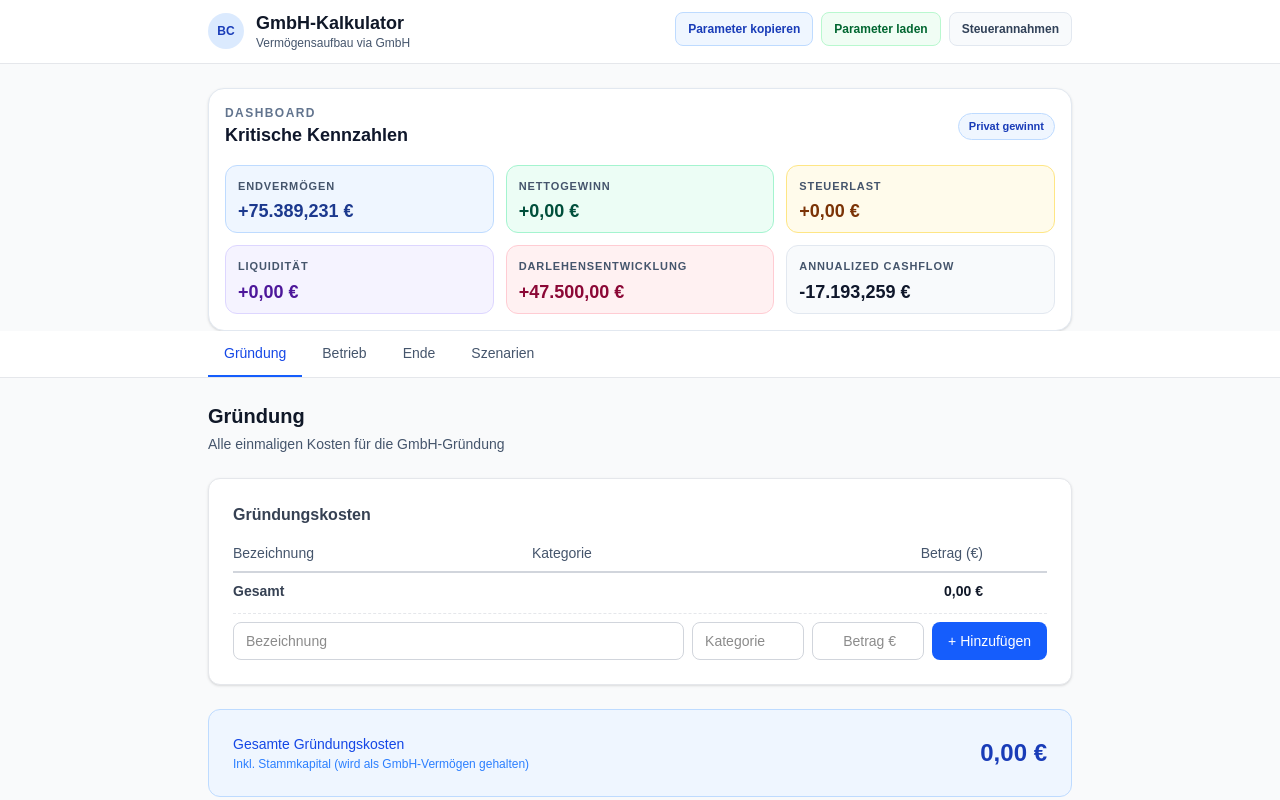
Scenario: Dashboard › provides direct access to documented tax assumptions
This screenshot has width=1280, height=800.
Click the button "Steuerannahmen": (1010, 29) top-left (949, 12), bottom-right (1072, 46)
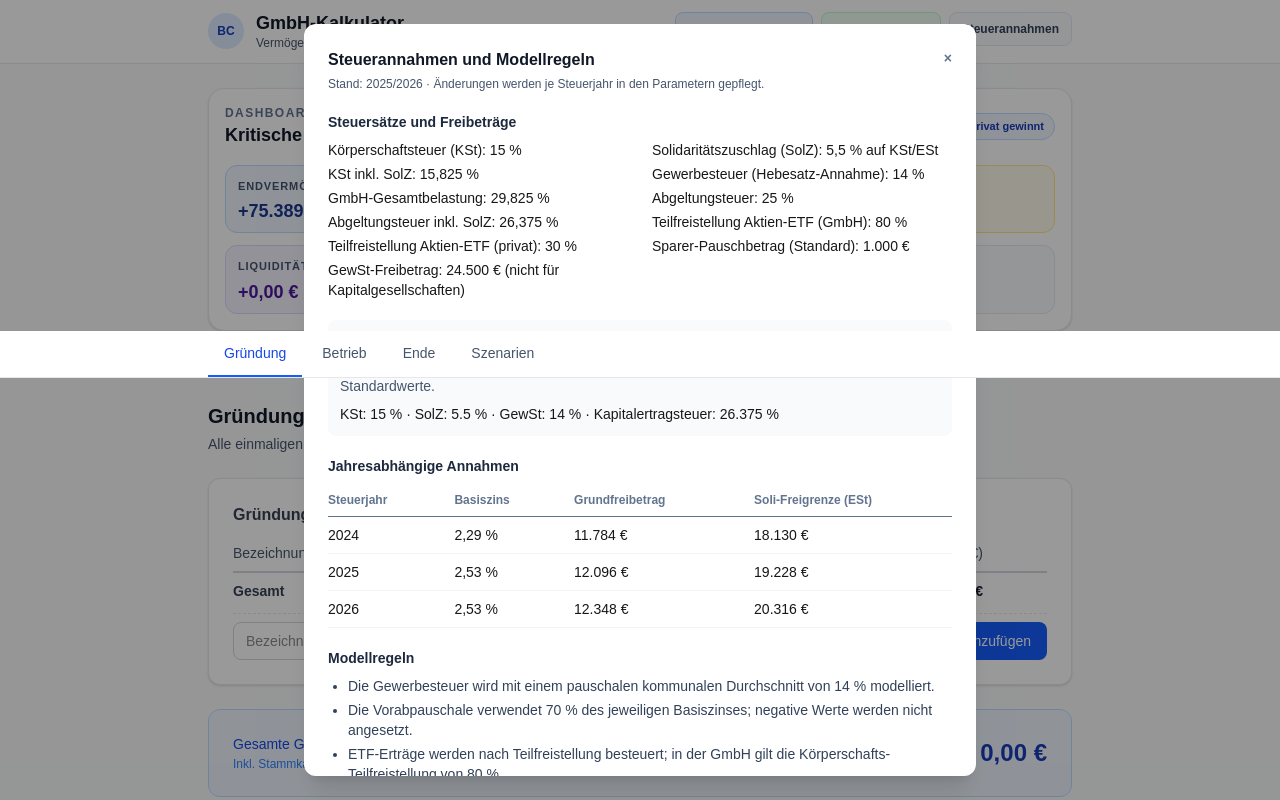
Result: the dialog is shown
Result: the heading "Steuersätze und Freibeträge" is shown at top-left (328, 114), bottom-right (516, 130)
Result: the column heading "Steuerjahr" is shown at top-left (328, 484), bottom-right (454, 516)
